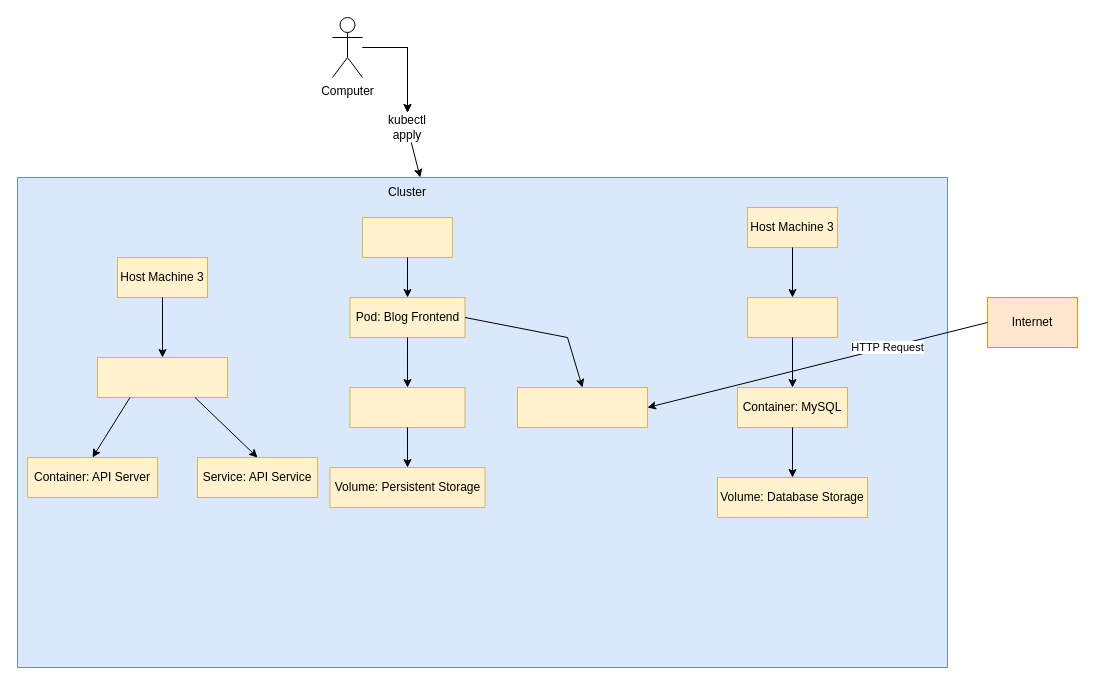
This 1095x685 diagram has some shape labels left out. Each missing label, with the centre of its shape:
Container: Blog App: the point at 407,407
Host Machine 1: the point at 407,237
Pod: Blog Backend: the point at 162,377
Pod: Database: the point at 792,317
Service: Blog Service: the point at 582,407
